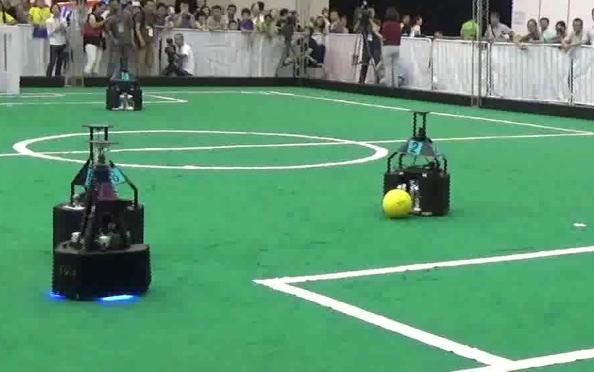robot: (48, 119, 154, 303), (376, 107, 453, 223), (105, 46, 145, 112)
